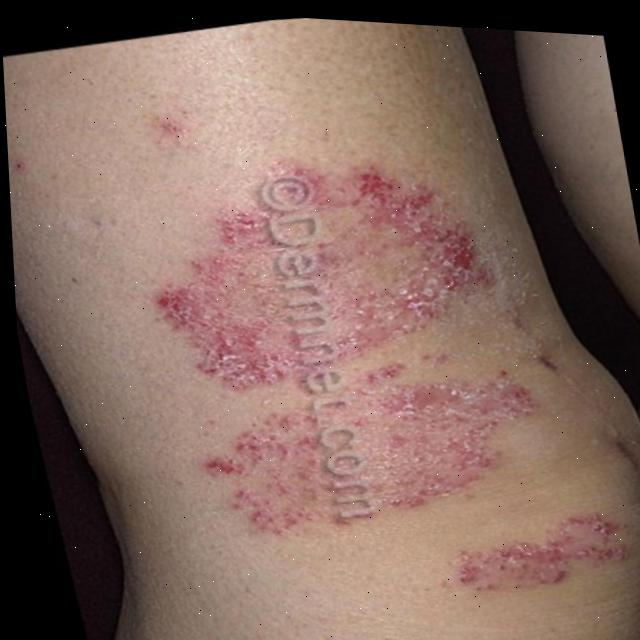Eczema: (178, 134, 536, 533), (464, 509, 640, 603)
